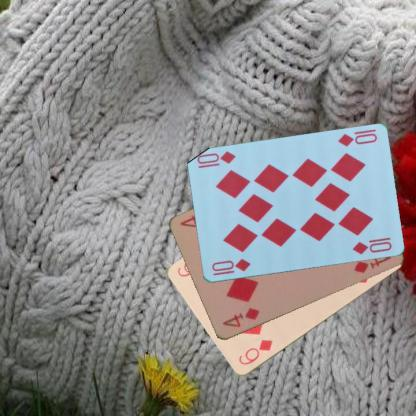10d: (209, 256, 252, 277), (335, 130, 379, 148)
4d: (219, 305, 261, 329)
6d: (236, 336, 274, 367)
